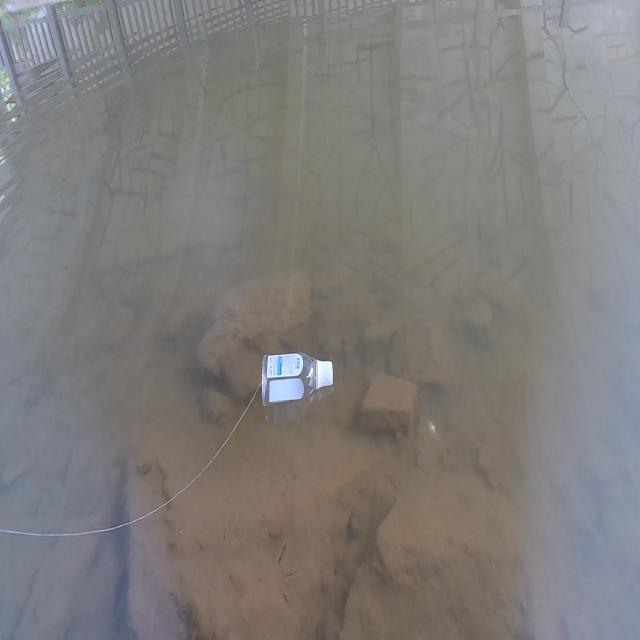Bottle: (260, 345, 334, 412)
